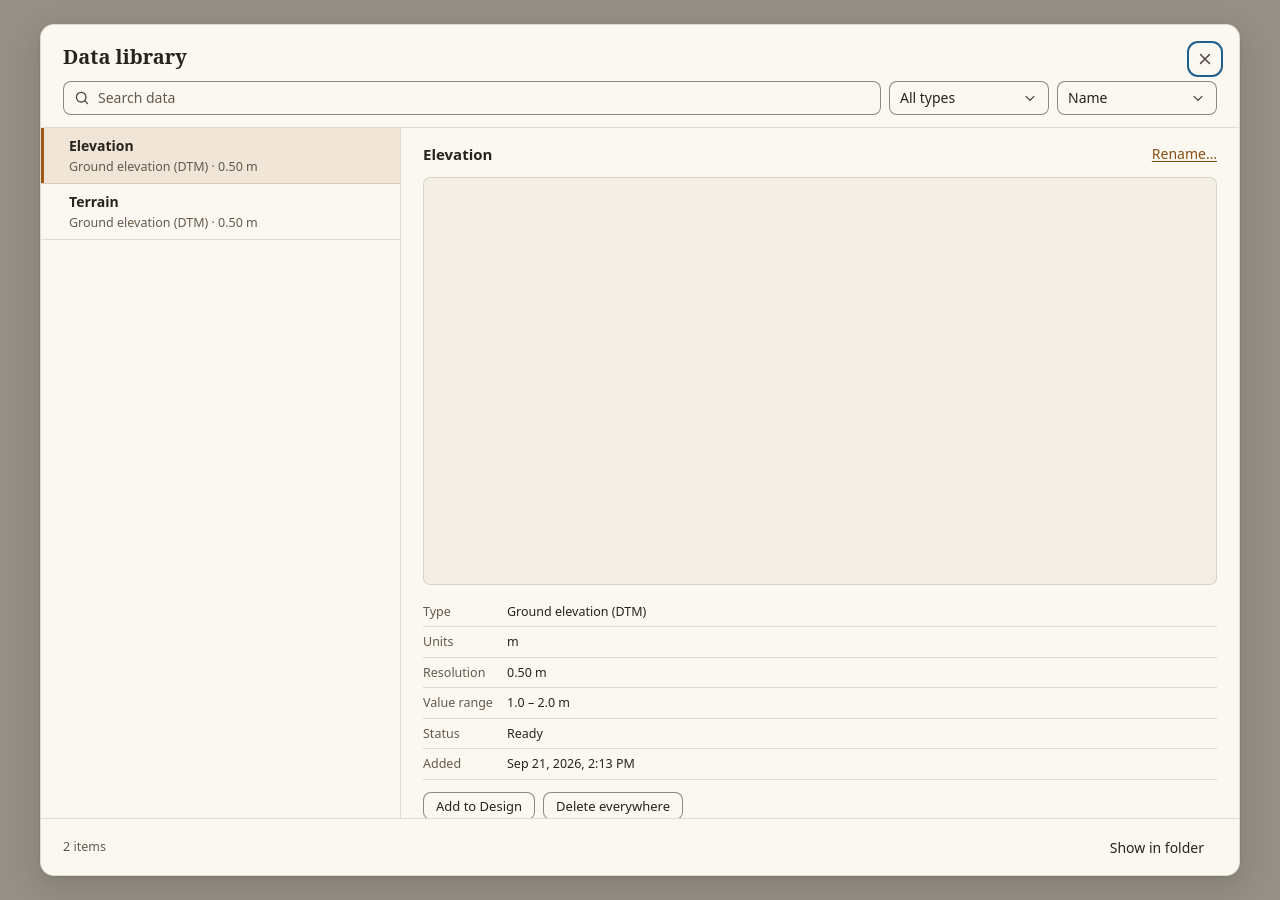
Test case: Data library, Import and Analyze dialogs › the Data library sheet › Esc right after {} opens, before a paint, cancels only it
Click the option "Terrain Ground elevation (DTM) · 0.50 m" at (220, 212), box x1=41 y1=184 x2=400 y2=240
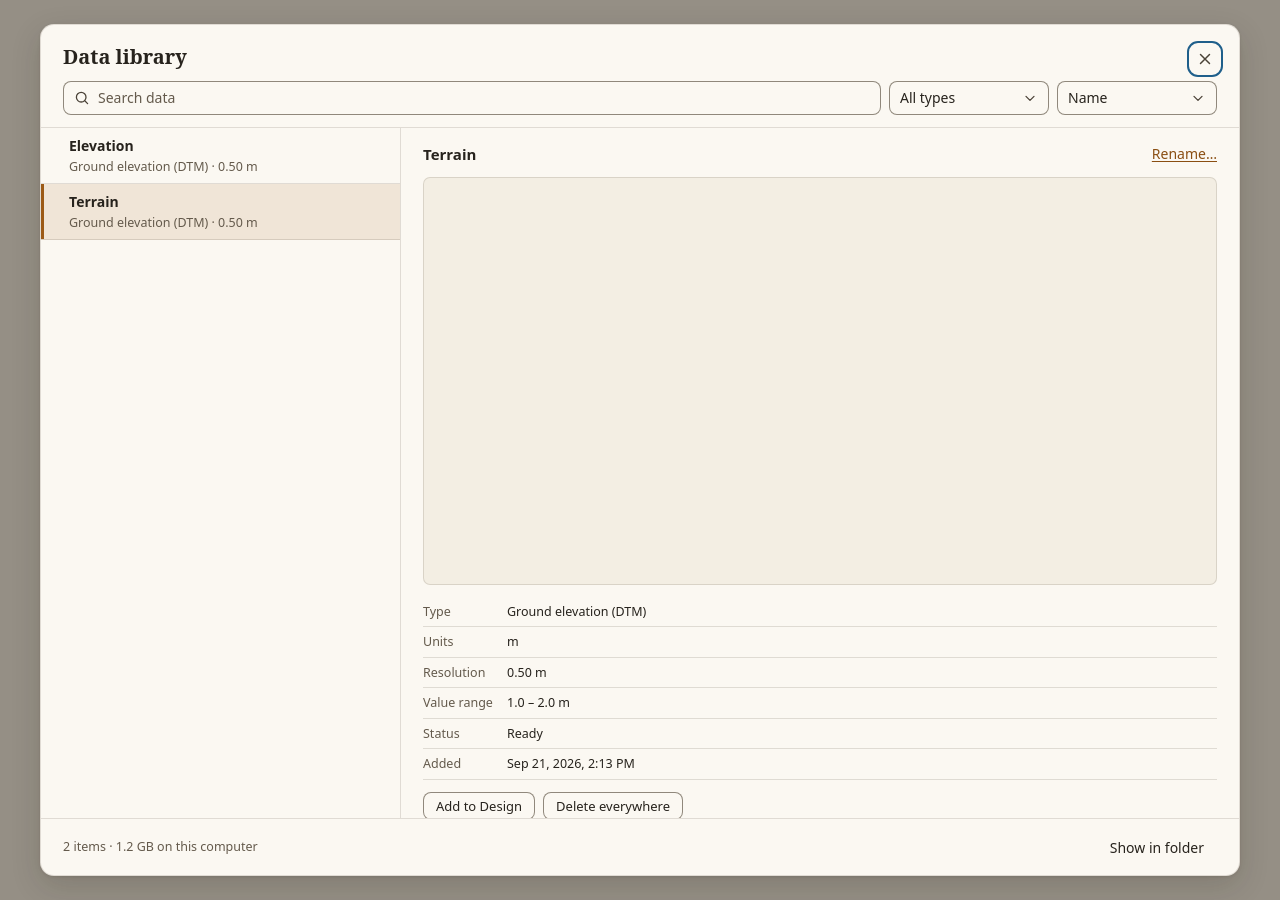
Click the button "Rename…" at (1184, 154), box x1=1152 y1=144 x2=1217 y2=164
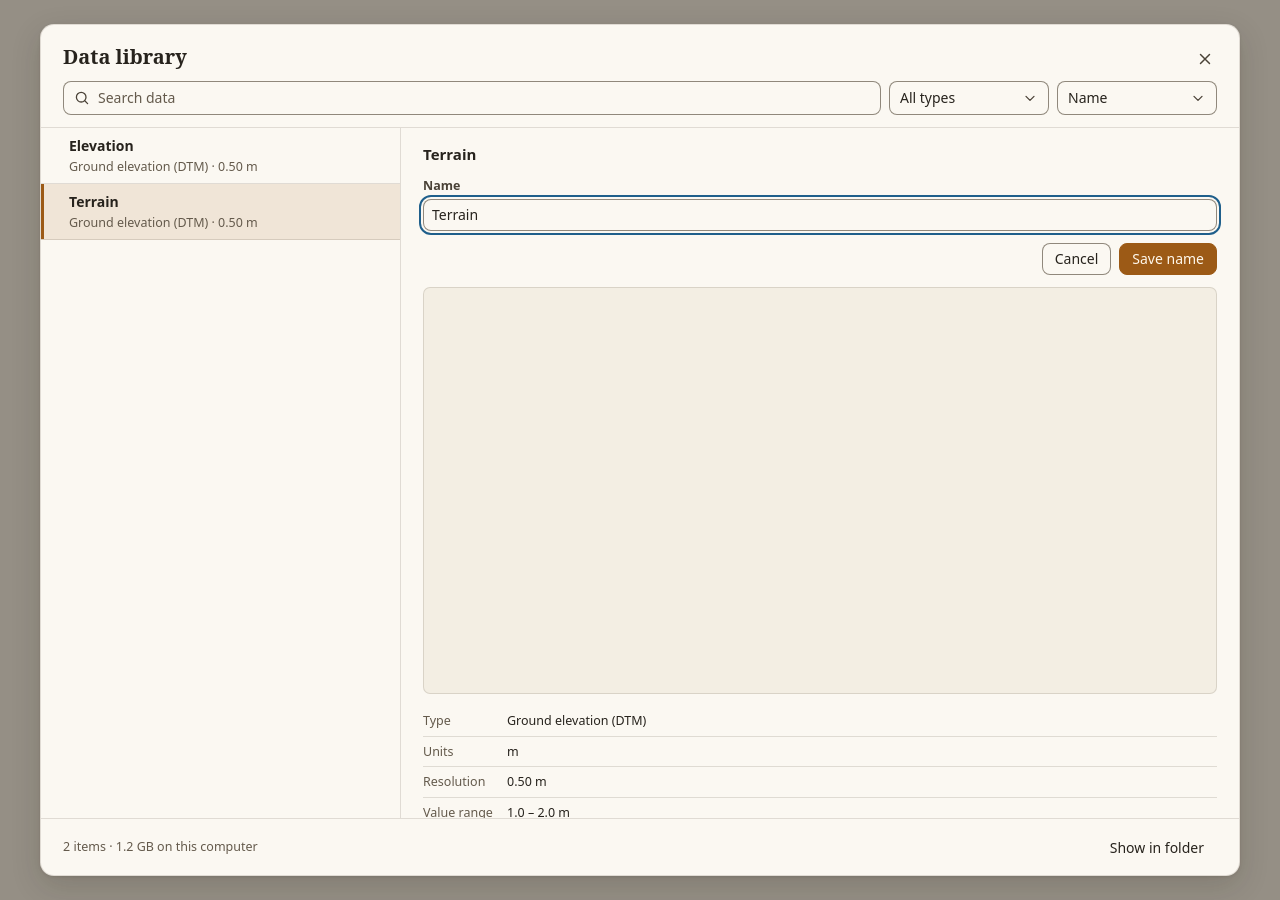
expect the form is shown: met, box x1=423 y1=177 x2=1217 y2=274
Press Escape in the field labelled "Name", box x1=423 y1=198 x2=1217 y2=230
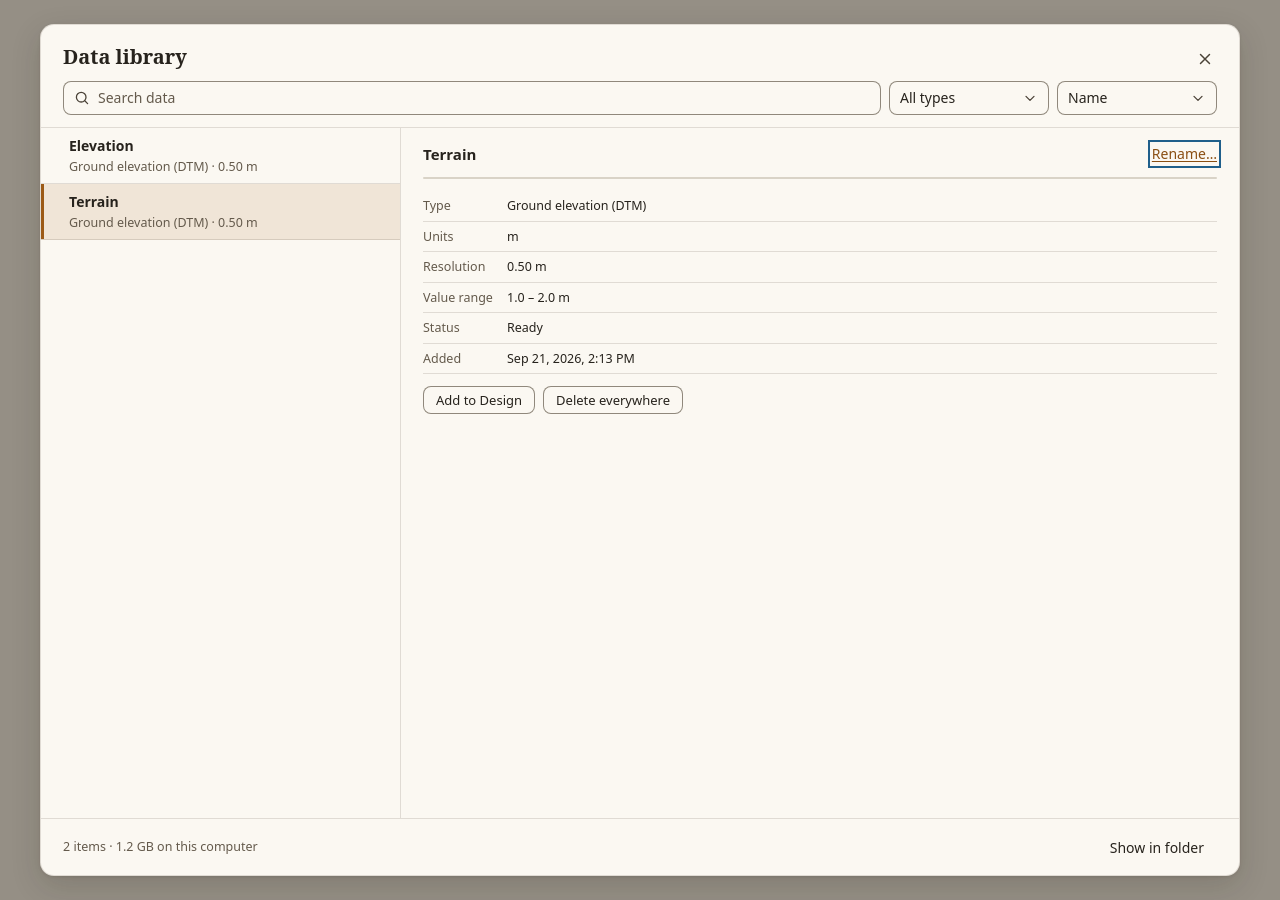
expect the form is gone: met
